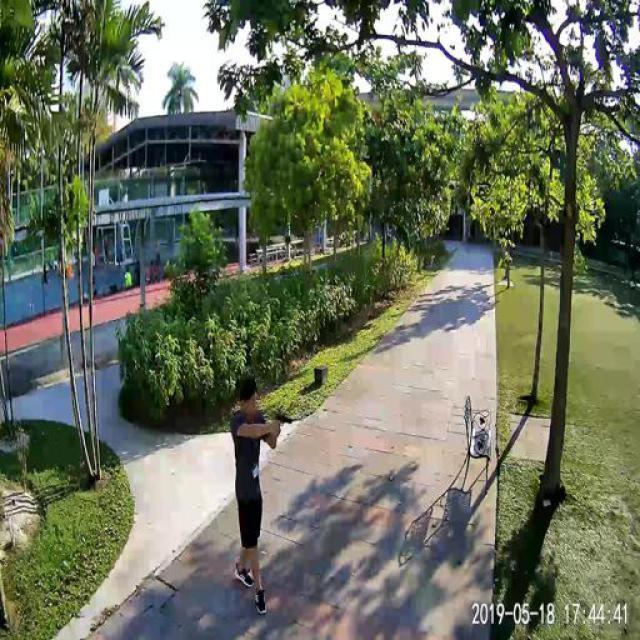weapon: (274, 412, 292, 426)
